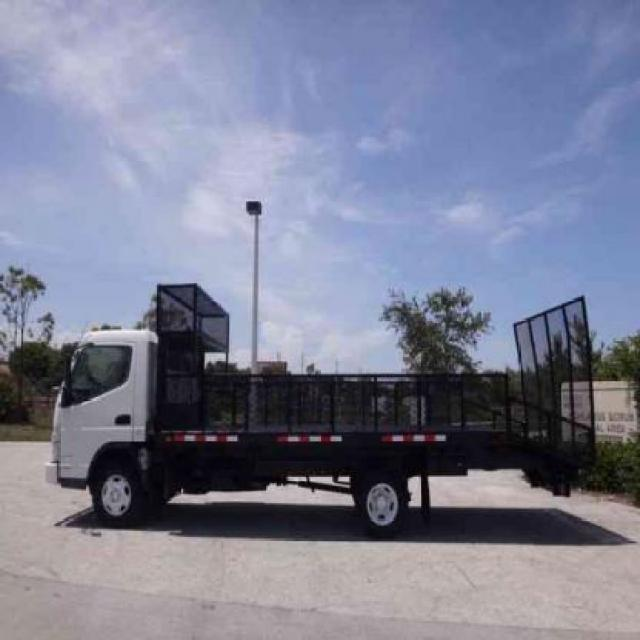truck: (46, 290, 601, 527)
